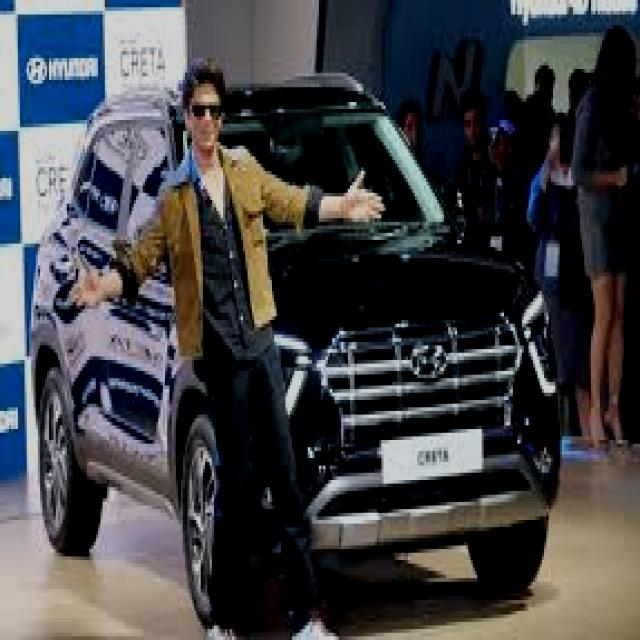SUV: (20, 68, 571, 614)
